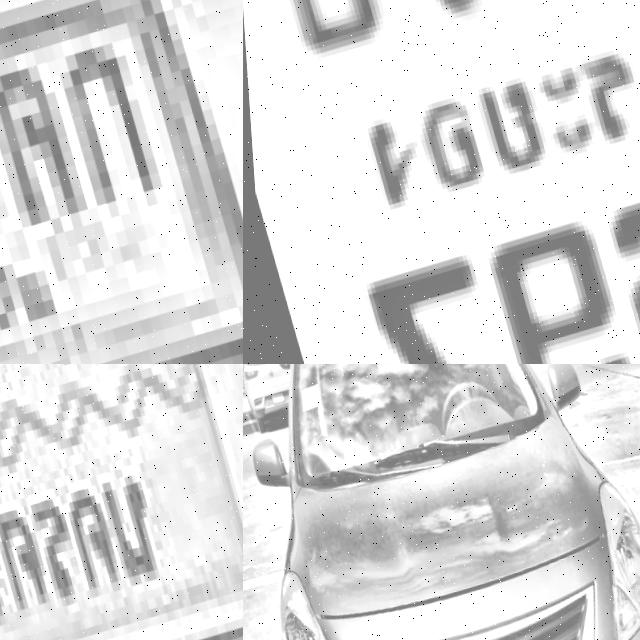license-plate: (243, 0, 640, 364), (0, 0, 243, 364), (0, 364, 243, 640)
